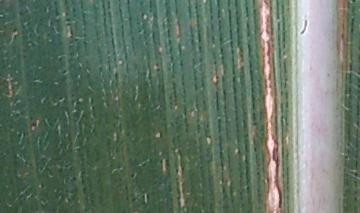tarspot: (30, 118, 41, 133), (129, 171, 138, 181)
